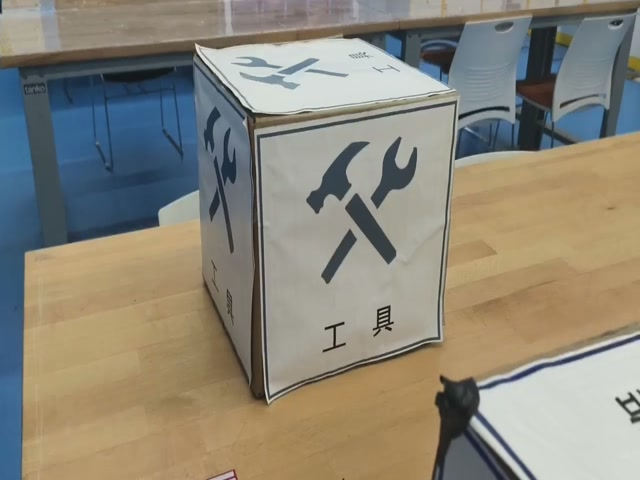Cube_tool: (196, 39, 456, 120)
